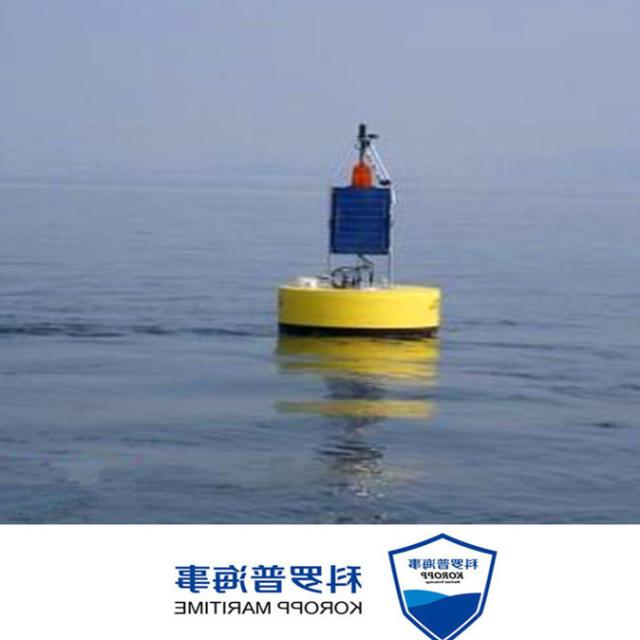buoy: (267, 118, 452, 338)
